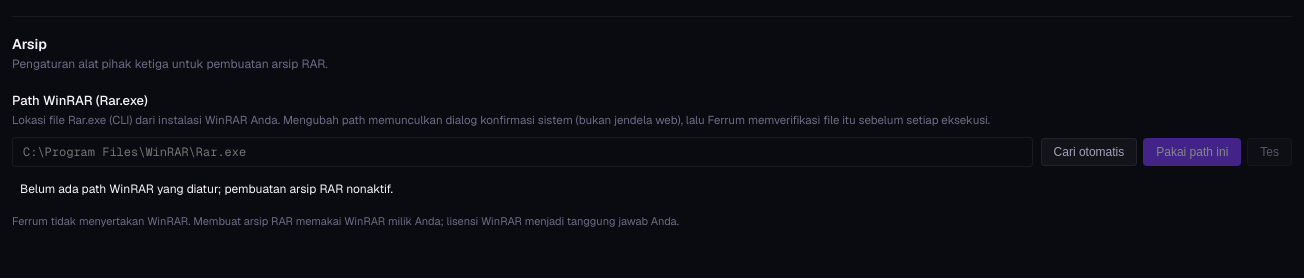
Test: FER-505/511: ArchiveSettingsSection component › Cari otomatis fills the draft input only — nothing is stored
The image size is (1304, 278).
Click the button with test id "rar-detect-btn". click: click(1089, 152)
box: top-left (1041, 138), bottom-right (1137, 166)
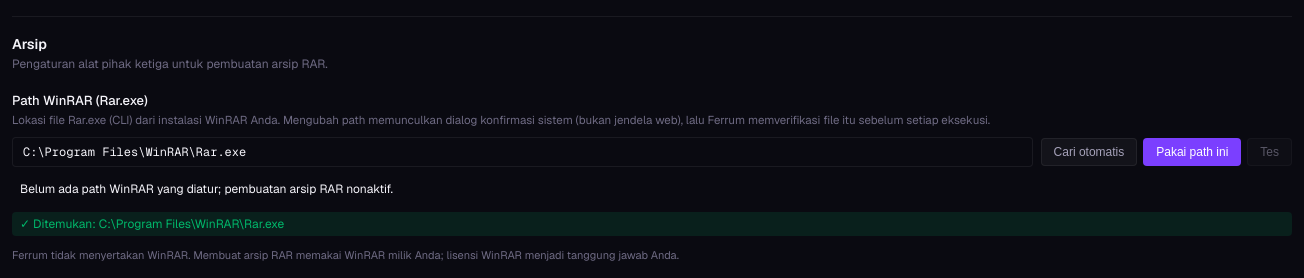
Now the field with test id "rar-exe-path-input" holds "C:\\Program Files\\WinRAR\\Rar.exe", box top-left (12, 137), bottom-right (1033, 167)
